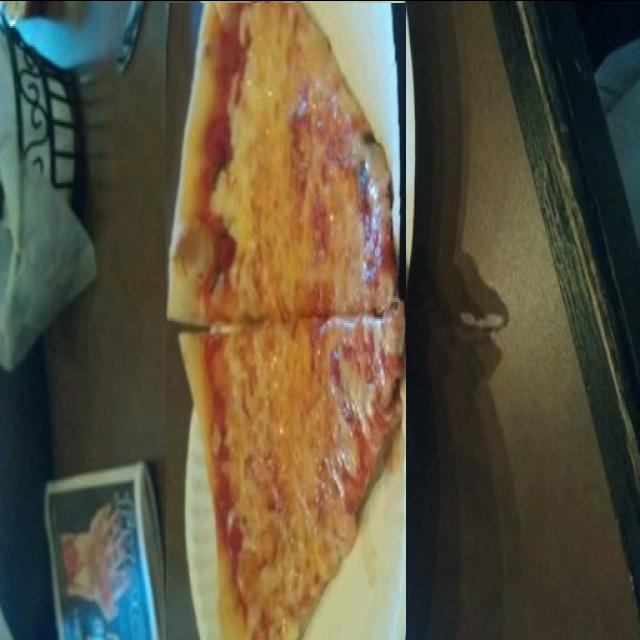pizza: (166, 2, 406, 640)
